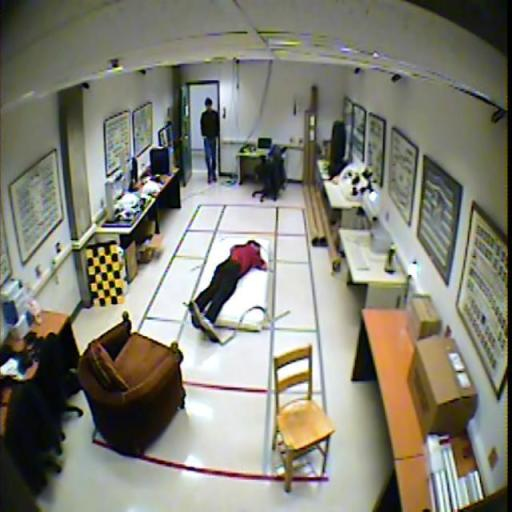Fall: (191, 238, 267, 336)
